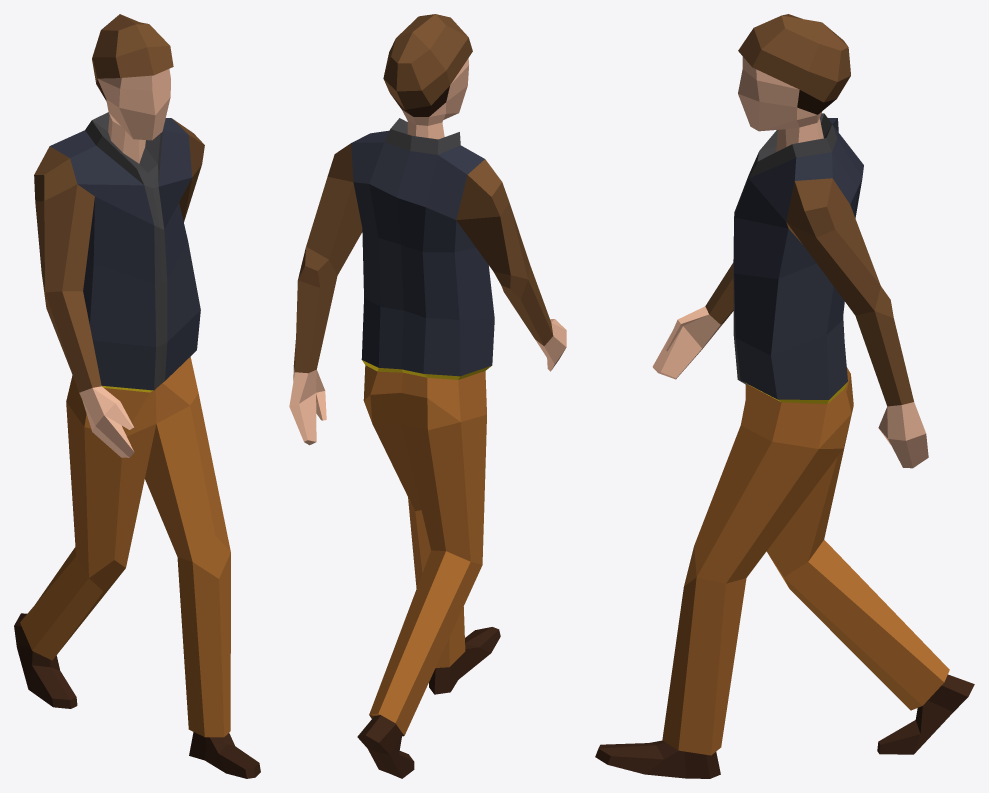
File: AutumnManB.005.glb
The picture shows the model from 3 angles, left to right: view 1: azimuth 30°, elevation 25°; view 2: azimuth 150°, elevation 25°; view 3: azimuth 270°, elevation 25°; orthographic projection. The views are drawn at different scales.
Parts seen in each view (by area): view 1: AutumnManB.005; view 2: AutumnManB.005; view 3: AutumnManB.005.
Boxes of the visible parts, x1=… form: AutumnManB.005: x1=14, y1=14, x2=260, y2=778; AutumnManB.005: x1=289, y1=14, x2=566, y2=778; AutumnManB.005: x1=595, y1=14, x2=974, y2=778.
Bounding box in the file's own units: 0.4613 × 1.73 × 0.8007.
1 material, 1 textured.
